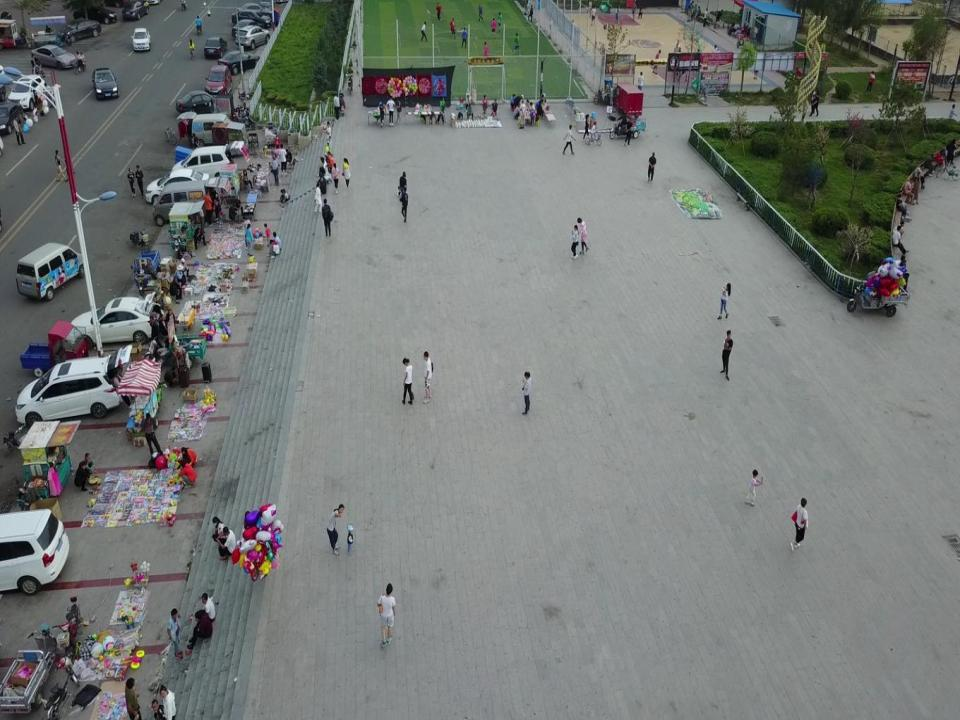car: (14, 344, 133, 429), (0, 508, 70, 596), (70, 292, 164, 351), (146, 169, 210, 205), (6, 74, 48, 112), (175, 90, 224, 116), (31, 44, 77, 70), (57, 17, 102, 43), (218, 50, 260, 75), (73, 3, 118, 24), (205, 64, 232, 99), (234, 24, 270, 50), (91, 67, 119, 99), (0, 102, 24, 134), (232, 10, 272, 28), (236, 3, 276, 20), (232, 18, 265, 38), (121, 0, 149, 21), (204, 36, 228, 58), (131, 27, 151, 52), (259, 0, 276, 10)
van: (15, 242, 87, 300), (152, 177, 228, 227), (171, 142, 244, 185), (176, 112, 238, 148)
